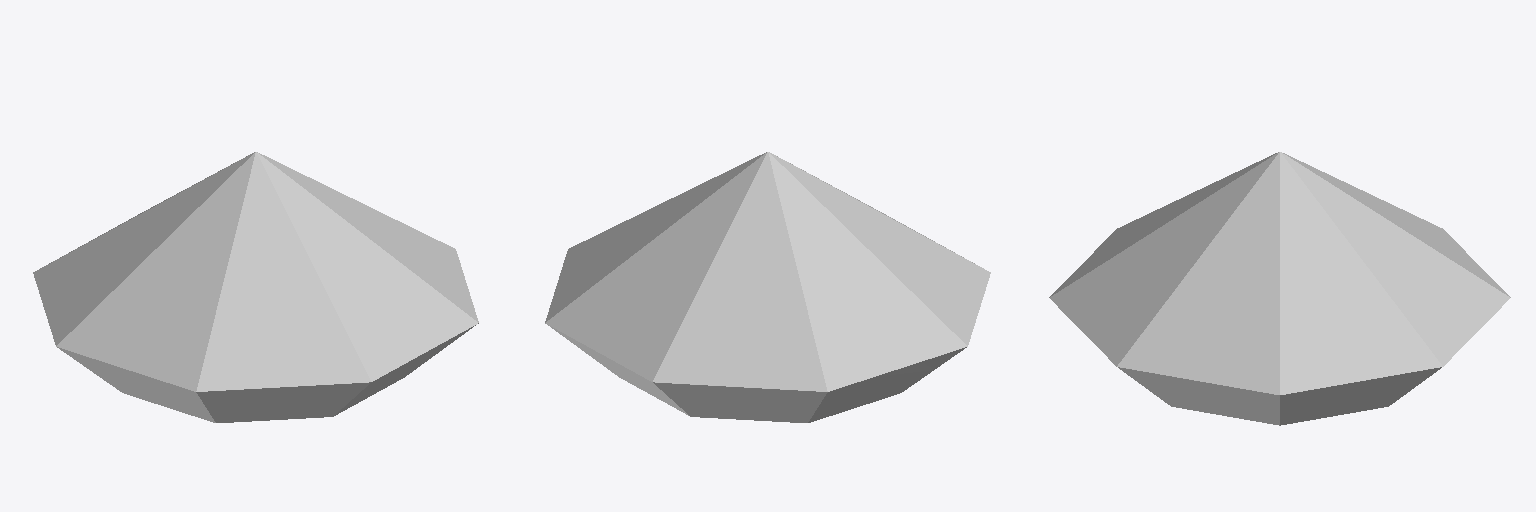
File: diamond.obj
The picture shows the model from 3 angles: view 1: azimuth 30°, elevation 25°; view 2: azimuth 150°, elevation 25°; view 3: azimuth 270°, elevation 25°; orthographic projection.
Visible parts, largest first — view 1: obj_0; view 2: obj_0; view 3: obj_0.
Boxes of the visible parts, <box> form: obj_0: <box>33,152,478,422</box>; obj_0: <box>545,152,990,422</box>; obj_0: <box>1049,152,1510,425</box>.
Size of the model in its own units: 19.86 by 9.93 by 19.86.